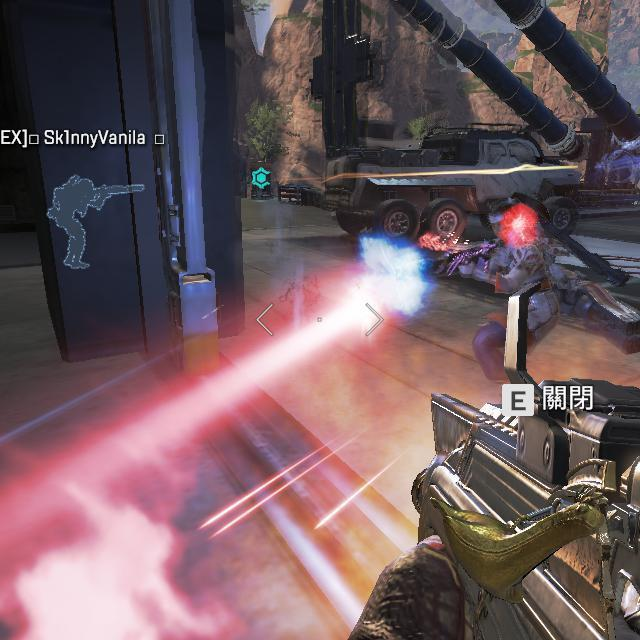avatar: (469, 190, 566, 384)
object: (498, 198, 541, 252)
